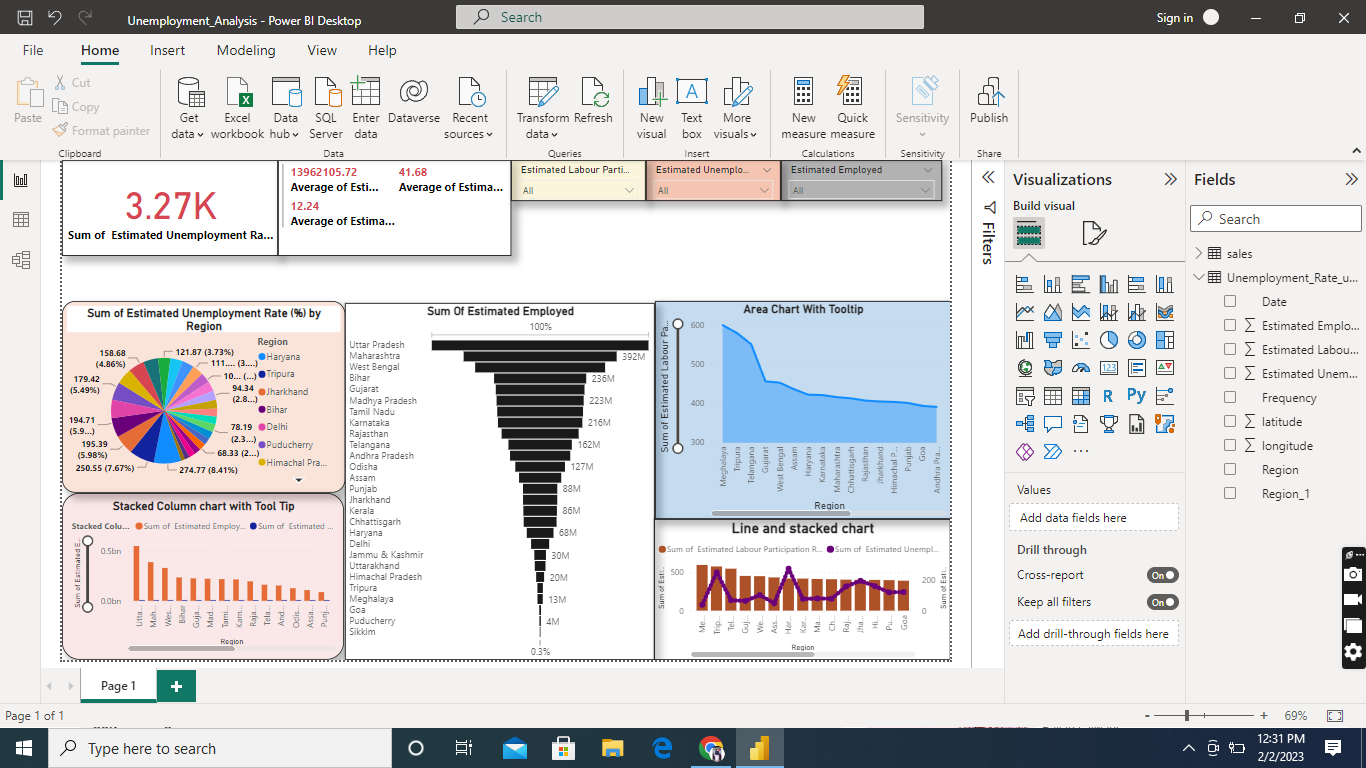

Layout of this report page (visuals, bound fields, positions):
{"tool":"powerbi","page":{"name":"Page 1","canvas":[1280,720],"ordinal":0},"visuals":[{"type":"card","fields":{"Values":["Sum(Unemployment_Rate_upto_11_2020. Estimated Unemployment Rate (%))"]},"box":[0,0,311,138.2],"z":0},{"type":"multiRowCard","fields":{"Values":["Avg(Unemployment_Rate_upto_11_2020. Estimated Employed)","Avg(Unemployment_Rate_upto_11_2020. Estimated Labour Participation Rate (%))","Avg(Unemployment_Rate_upto_11_2020. Estimated Unemployment Rate (%))"]},"box":[322.6,18.7,335.5,149.8],"z":1000},{"type":"pieChart","fields":{"Y":["Sum(Unemployment_Rate_upto_11_2020. Estimated Unemployment Rate (%))"],"Category":["Unemployment_Rate_upto_11_2020.Region"]},"box":[0,203,407.5,276.5],"z":2000},{"type":"clusteredColumnChart","title":"Stacked Column chart with Tool Tip","fields":{"Category":["Unemployment_Rate_upto_11_2020.Region"],"Y":["Sum(Unemployment_Rate_upto_11_2020. Estimated Employed)","Sum(Unemployment_Rate_upto_11_2020. Estimated Unemployment Rate (%))"]},"box":[0,479.5,406.1,240.5],"z":3000},{"type":"funnel","title":"Sum Of Estimated Employed","fields":{"Category":["Unemployment_Rate_upto_11_2020.Region"],"Y":["Sum(Unemployment_Rate_upto_11_2020. Estimated Employed)"]},"box":[407.5,205.9,446.4,514.1],"z":4000},{"type":"lineClusteredColumnComboChart","title":" Line and stacked chart","fields":{"Y":["Sum(Unemployment_Rate_upto_11_2020. Estimated Labour Participation Rate (%))"],"Category":["Unemployment_Rate_upto_11_2020.Region"],"Y2":["Sum(Unemployment_Rate_upto_11_2020. Estimated Unemployment Rate (%))"]},"box":[852.9,517.1,427.1,202.9],"z":5000},{"type":"gauge","fields":{"Y":["Sum(Unemployment_Rate_upto_11_2020. Estimated Labour Participation Rate (%))"],"MinValue":["Min(Unemployment_Rate_upto_11_2020. Estimated Labour Participation Rate (%))"]},"box":[840,18.6,427.1,150],"z":6000},{"type":"stackedAreaChart","title":" Area Chart With Tooltip","fields":{"Category":["Unemployment_Rate_upto_11_2020.Region"],"Y":["Sum(Unemployment_Rate_upto_11_2020. Estimated Labour Participation Rate (%))"]},"box":[854.3,202.9,425.7,314.3],"z":7000}]}

Visuals, with their boxes on the page's 1280x720 design canvas (x1, y1, x2, y2). These are canvas units, not pixel positions in the 1366x768 screenshot, which may show the page scaled, cropped or inside an application window:
card - Sum(Unemployment_Rate_upto_11_2020. Estimated Unemployment Rate (%)): BBox(0, 0, 311, 138)
multiRowCard - Avg(Unemployment_Rate_upto_11_2020. Estimated Employed) x Avg(Unemployment_Rate_upto_11_2020. Estimated Labour Participation Rate (%)): BBox(323, 19, 658, 168)
pieChart - Sum(Unemployment_Rate_upto_11_2020. Estimated Unemployment Rate (%)) x Unemployment_Rate_upto_11_2020.Region: BBox(0, 203, 408, 480)
"Stacked Column chart with Tool Tip" clusteredColumnChart: BBox(0, 480, 406, 720)
"Sum Of Estimated Employed" funnel: BBox(408, 206, 854, 720)
" Line and stacked chart" lineClusteredColumnComboChart: BBox(853, 517, 1280, 720)
gauge - Sum(Unemployment_Rate_upto_11_2020. Estimated Labour Participation Rate (%)) x Min(Unemployment_Rate_upto_11_2020. Estimated Labour Participation Rate (%)): BBox(840, 19, 1267, 169)
" Area Chart With Tooltip" stackedAreaChart: BBox(854, 203, 1280, 517)
